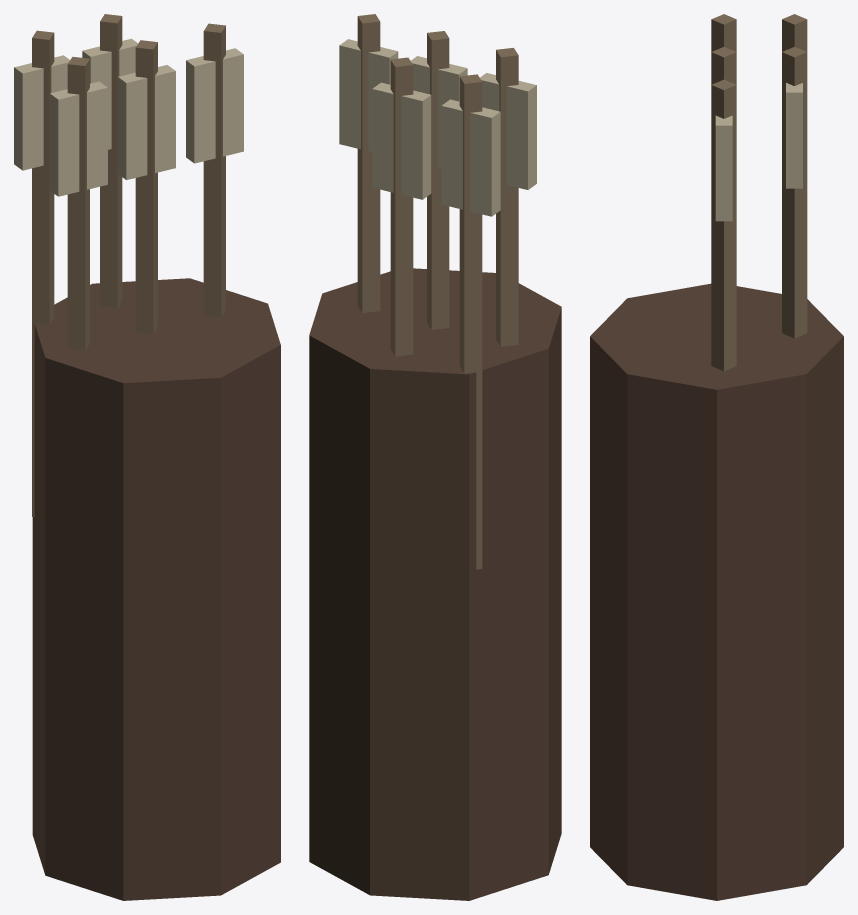
Rendered from NPC_Back_01_Quiver.glb.
The picture shows the model from 3 angles, left to right: view 1: azimuth 30°, elevation 25°; view 2: azimuth 150°, elevation 25°; view 3: azimuth 270°, elevation 25°; orthographic projection. The views are drawn at different scales.
Visible parts, largest first — view 1: NPC_Back_01_Quiver; view 2: NPC_Back_01_Quiver; view 3: NPC_Back_01_Quiver.
Part boxes in pixels (<box>): NPC_Back_01_Quiver: <box>14,14,280,900</box>; NPC_Back_01_Quiver: <box>309,14,561,900</box>; NPC_Back_01_Quiver: <box>590,14,843,900</box>.
Bounding box in the file's own units: 0.18 × 0.62 × 0.18.
